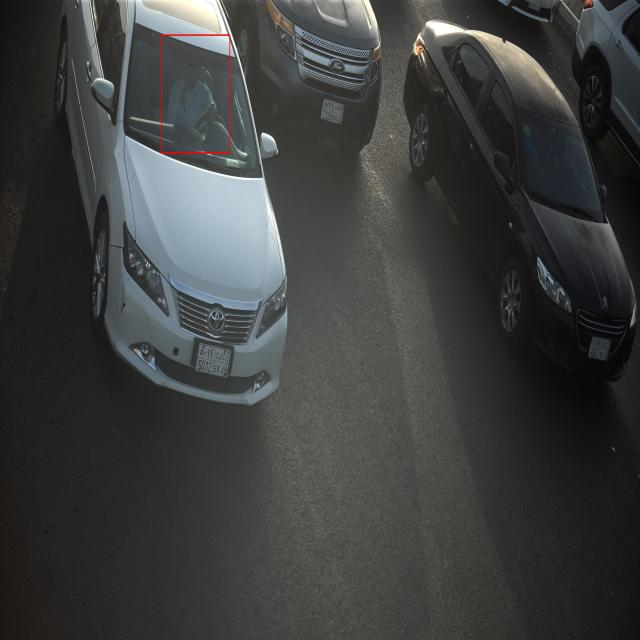windshield: (120, 11, 264, 179), (514, 103, 607, 226)
